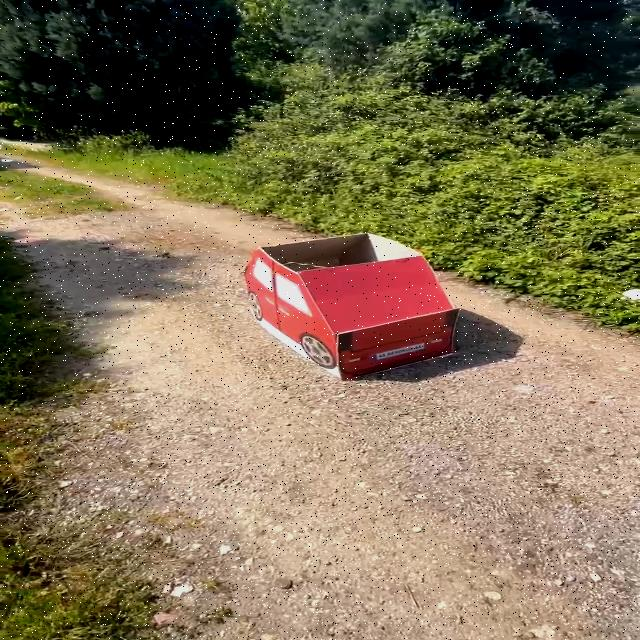red_car: (215, 232, 486, 383)
